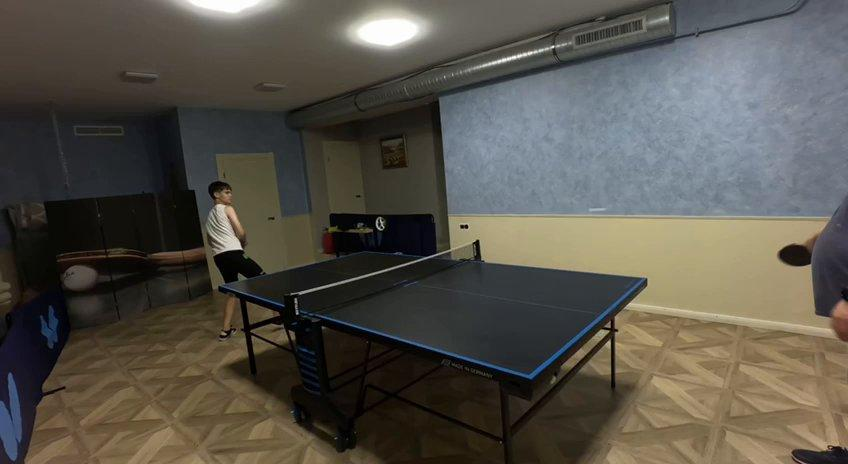Ball: (588, 205, 609, 215)
Net: (284, 241, 481, 318)
Player1: (205, 181, 262, 337)
Player2: (778, 195, 847, 342)
Table: (220, 251, 646, 381)
